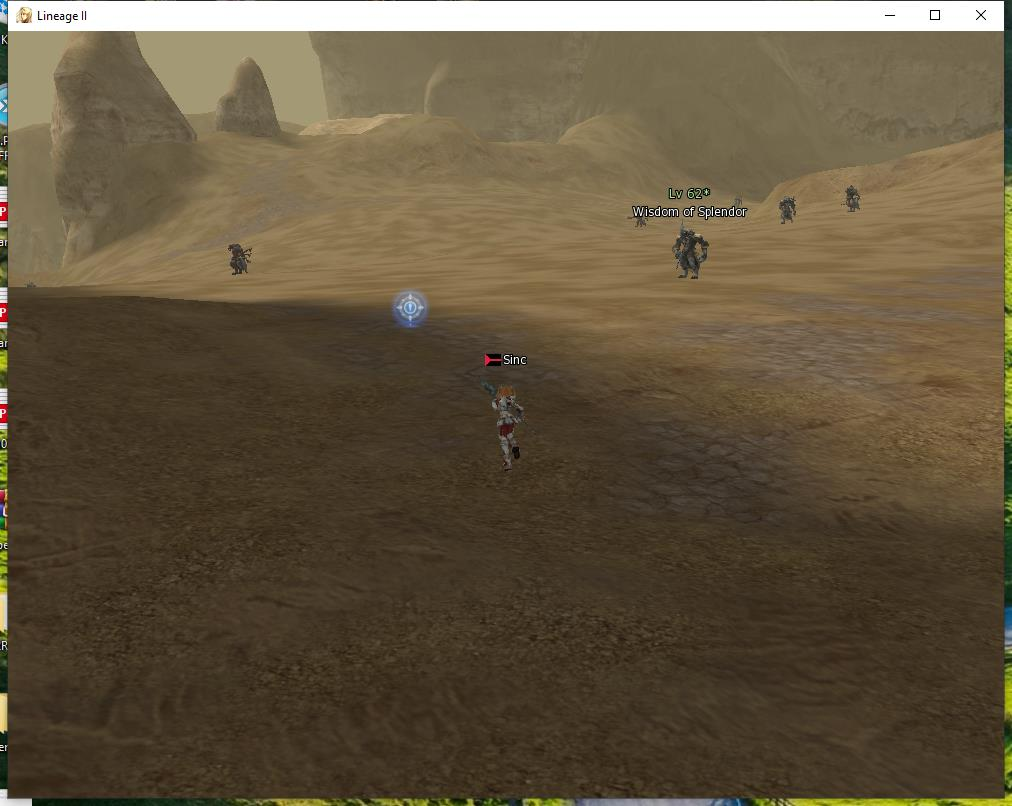monster: (663, 201, 719, 274), (214, 237, 266, 277), (844, 176, 874, 219), (627, 203, 656, 238), (776, 193, 798, 236)
